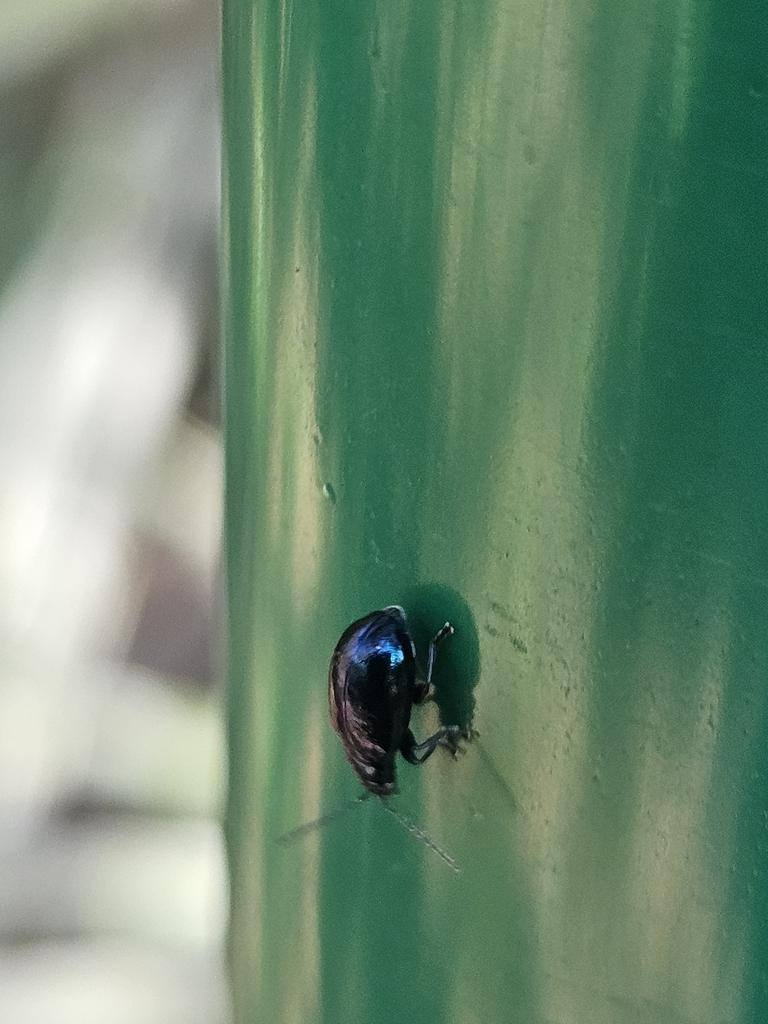flea_beetle: (233, 540, 513, 891)
